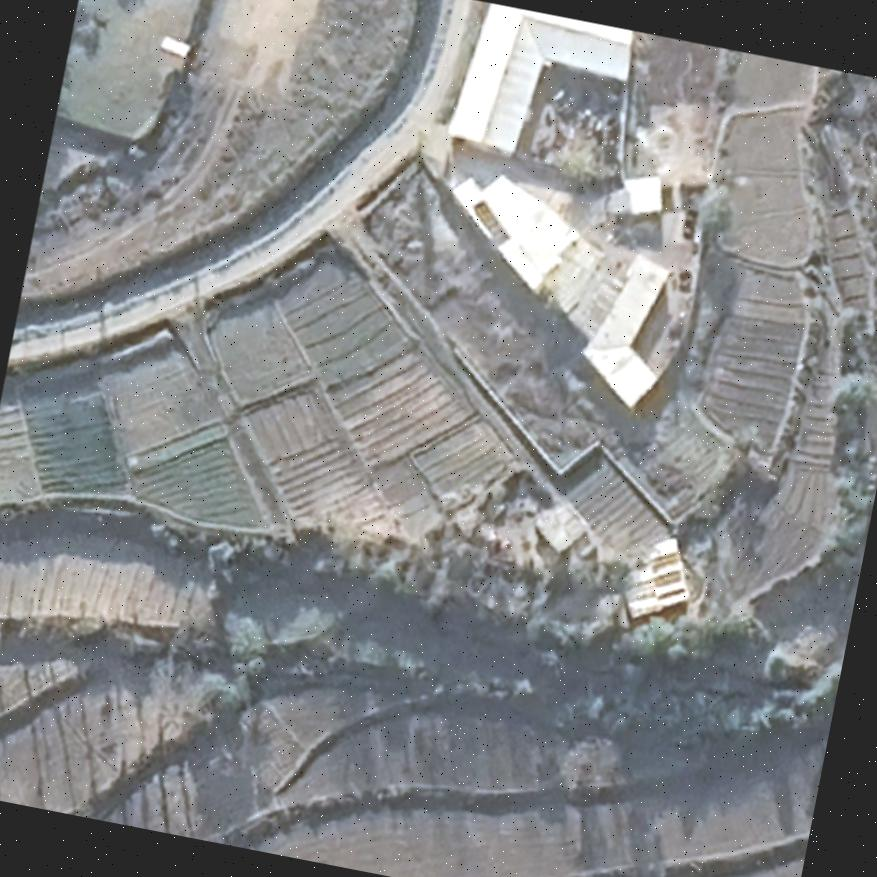Solarpanel: (470, 195, 511, 245)
